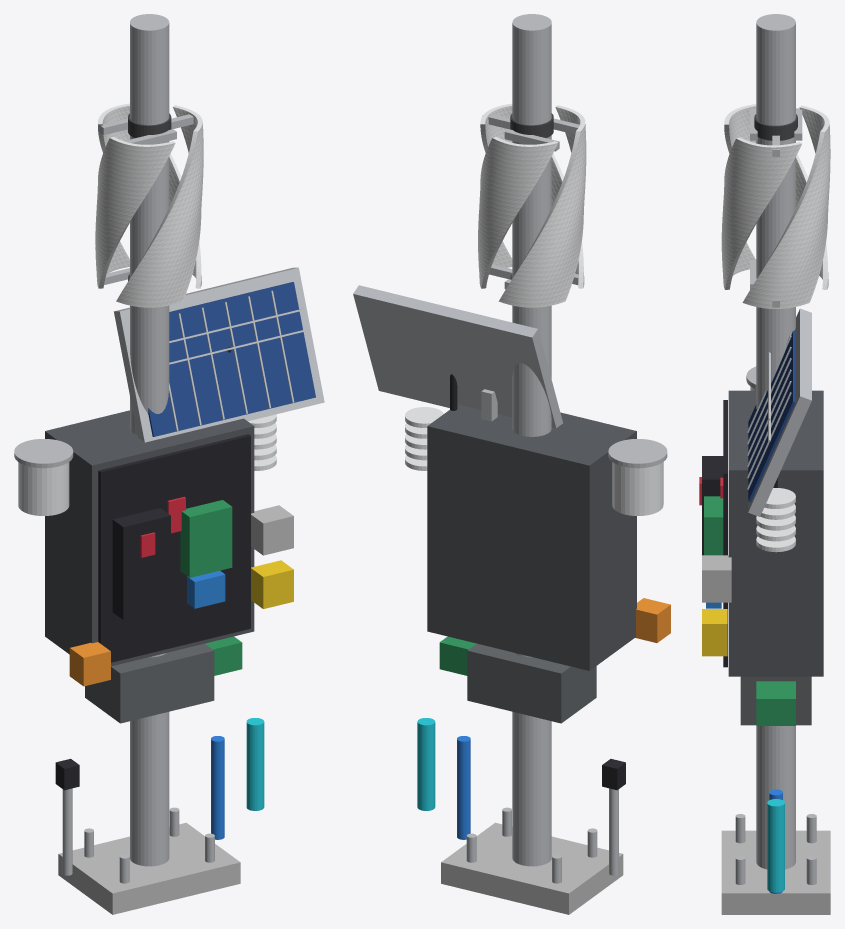
Rendered from PRISM_corrected.glb.
The picture shows the model from 3 angles, left to right: view 1: azimuth 30°, elevation 25°; view 2: azimuth 150°, elevation 25°; view 3: azimuth 270°, elevation 25°; orthographic projection.
Visible parts, largest first — view 1: Front panel, Main mounting pole, Solar panel solid surface, Weatherproof enclosure, Mounting base, Helical curved blade 3, Battery housing, Helical curved blade 2, Snapdragon Edge AI, Solar panel frame, ESP32 Sensor Hub, Rain gauge (+11 smaller); view 2: Weatherproof enclosure, Main mounting pole, Solar panel frame, Mounting base, Helical curved blade 2, Battery housing, Helical curved blade 1, Rain gauge, Water quality probe, Helical curved blade 3, Rain gauge rim, Water level probe (+4 smaller); view 3: Weatherproof enclosure, Main mounting pole, Helical curved blade 1, Mounting base, Helical curved blade 3, Solar panel frame, Solar panel solid surface, Battery housing, Charge controller, Water quality probe, Helical curved blade 2, PM2.5 PM10 sensor (+14 smaller).
Boxes of the visible parts, x1=… form: Front panel: x1=98, y1=434, x2=250, y2=662; Main mounting pole: x1=130, y1=14, x2=169, y2=866; Solar panel solid surface: x1=148, y1=282, x2=315, y2=436; Weatherproof enclosure: x1=45, y1=410, x2=254, y2=666; Mounting base: x1=58, y1=822, x2=240, y2=914; Helical curved blade 3: x1=116, y1=105, x2=203, y2=307; Battery housing: x1=85, y1=643, x2=214, y2=723; Helical curved blade 2: x1=95, y1=137, x2=175, y2=288; Snapdragon Edge AI: x1=112, y1=508, x2=170, y2=619; Solar panel frame: x1=114, y1=267, x2=324, y2=442; ESP32 Sensor Hub: x1=180, y1=500, x2=232, y2=577; Rain gauge: x1=18, y1=462, x2=69, y2=515; Weatherproof enclosure: x1=427, y1=404, x2=636, y2=670; Main mounting pole: x1=512, y1=14, x2=551, y2=866; Solar panel frame: x1=353, y1=285, x2=562, y2=428; Mounting base: x1=441, y1=822, x2=623, y2=914; Helical curved blade 2: x1=498, y1=105, x2=586, y2=307; Battery housing: x1=467, y1=643, x2=596, y2=723; Helical curved blade 1: x1=478, y1=137, x2=557, y2=288; Rain gauge: x1=612, y1=462, x2=663, y2=515; Water quality probe: x1=417, y1=718, x2=435, y2=810; Helical curved blade 3: x1=480, y1=103, x2=584, y2=288; Rain gauge rim: x1=608, y1=439, x2=667, y2=468; Water level probe: x1=457, y1=736, x2=470, y2=839; Weatherproof enclosure: x1=728, y1=390, x2=823, y2=676; Main mounting pole: x1=756, y1=14, x2=795, y2=869; Helical curved blade 1: x1=742, y1=105, x2=830, y2=308; Mounting base: x1=721, y1=830, x2=830, y2=914; Helical curved blade 3: x1=721, y1=137, x2=802, y2=289; Solar panel frame: x1=748, y1=308, x2=811, y2=516; Solar panel solid surface: x1=748, y1=330, x2=795, y2=502; Battery housing: x1=740, y1=676, x2=811, y2=725; Charge controller: x1=756, y1=681, x2=795, y2=725; Water quality probe: x1=767, y1=799, x2=784, y2=892; Helical curved blade 2: x1=724, y1=104, x2=828, y2=289; PM2.5 PM10 sensor: x1=702, y1=555, x2=731, y2=602.
Size of the model in its own units: 1.71 by 4.8 by 0.6625.
